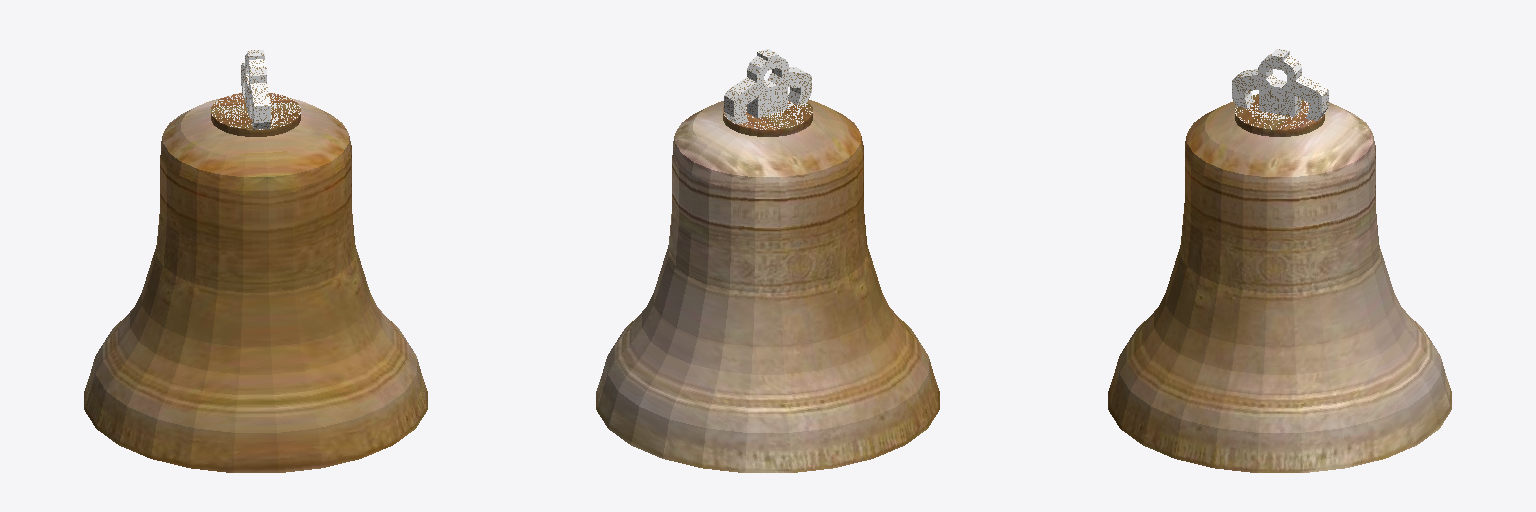
3 views of the same model, side by side, from view 1: azimuth 30°, elevation 25°; view 2: azimuth 150°, elevation 25°; view 3: azimuth 270°, elevation 25° (orthographic).
Parts seen in each view (by area): view 1: mesh4_mesh4-geometry, mesh3_mesh3-geometry, mesh6_mesh6-geometry, mesh5_mesh5-geometry; view 2: mesh4_mesh4-geometry, mesh3_mesh3-geometry, mesh5_mesh5-geometry, mesh6_mesh6-geometry; view 3: mesh3_mesh3-geometry, mesh4_mesh4-geometry, mesh6_mesh6-geometry, mesh5_mesh5-geometry.
Boxes of the visible parts, x1,y1,x2,y2 form: mesh4_mesh4-geometry: [84, 93, 278, 472]; mesh3_mesh3-geometry: [262, 93, 427, 472]; mesh6_mesh6-geometry: [241, 50, 270, 128]; mesh5_mesh5-geometry: [248, 50, 263, 129]; mesh4_mesh4-geometry: [631, 102, 939, 472]; mesh3_mesh3-geometry: [596, 94, 826, 444]; mesh5_mesh5-geometry: [724, 50, 811, 121]; mesh6_mesh6-geometry: [729, 49, 800, 124]; mesh3_mesh3-geometry: [1108, 106, 1439, 472]; mesh4_mesh4-geometry: [1194, 94, 1451, 427]; mesh6_mesh6-geometry: [1232, 50, 1328, 116]; mesh5_mesh5-geometry: [1236, 49, 1324, 120].
Size of the model in its own units: 0.5197 by 0.6781 by 0.5197.
5 materials, 2 textured.